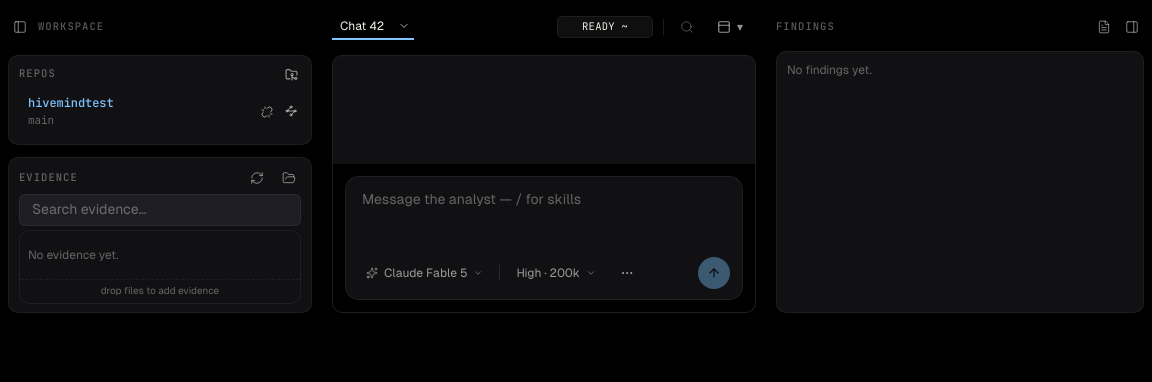
Test: CaseWorkspace case switching › does not leak a case A repo unlink-error chip into case B
The image size is (1152, 382).
expect the text "hivemindtest" is shown: met, box [28,95,114,111]
Click the button named "Unlink repo": (267, 112) [257,102,277,122]
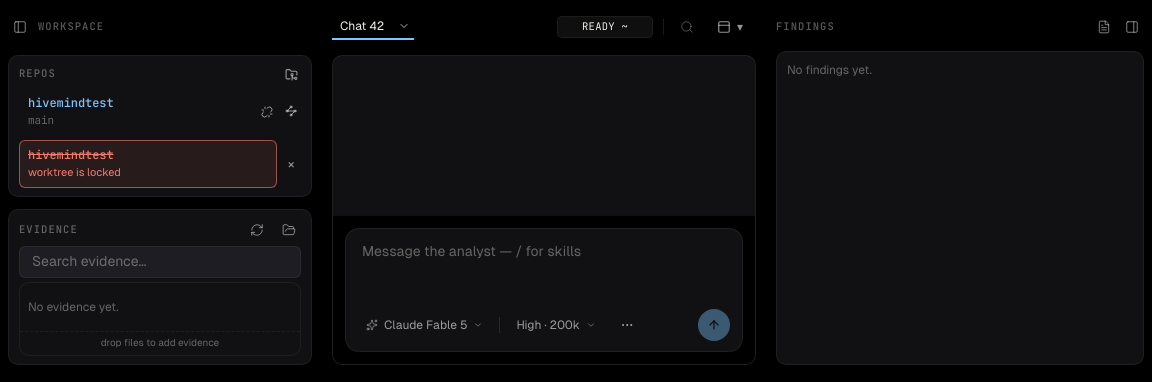
expect the element titled "worktree is locked" is shown: met, box [19,140,277,188]
